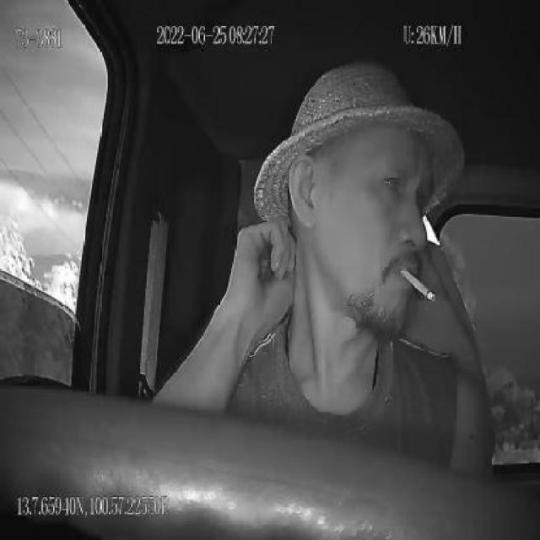smoking: (399, 268, 435, 299)
